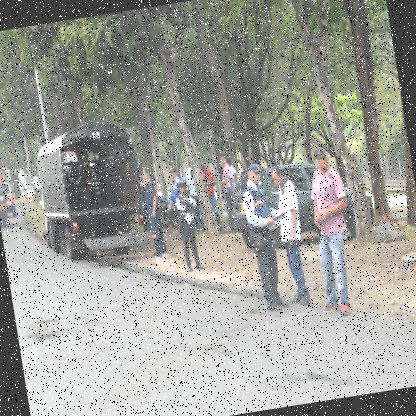Car: (224, 152, 377, 258), (0, 181, 19, 221)
